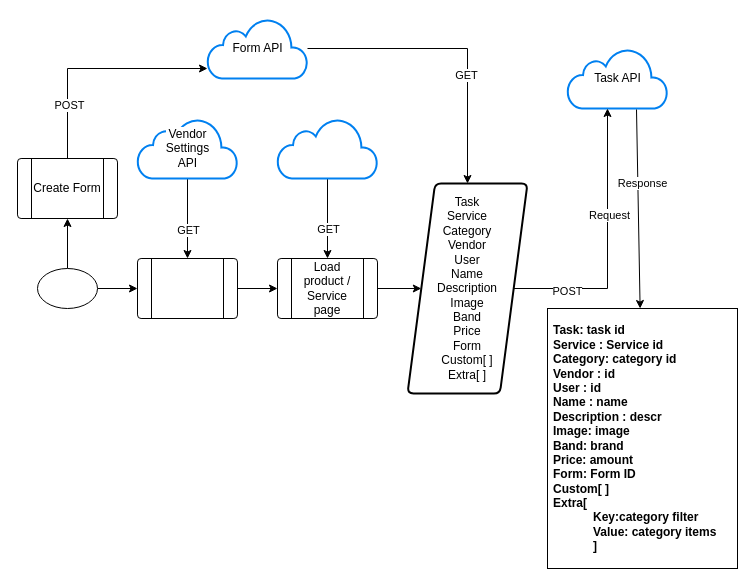
Image size: 755x586. Some labels were removed from this diagram. The box of each missing label's shape, as (x1, y1, x2, y2) in pixels:
Category Filter API: (276, 117, 378, 179)
Select Category of service: (136, 258, 238, 318)
Start: (36, 268, 98, 308)
